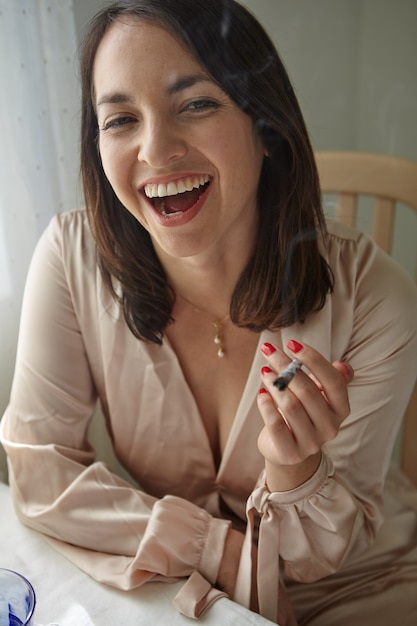cigarette: (275, 354, 301, 388)
